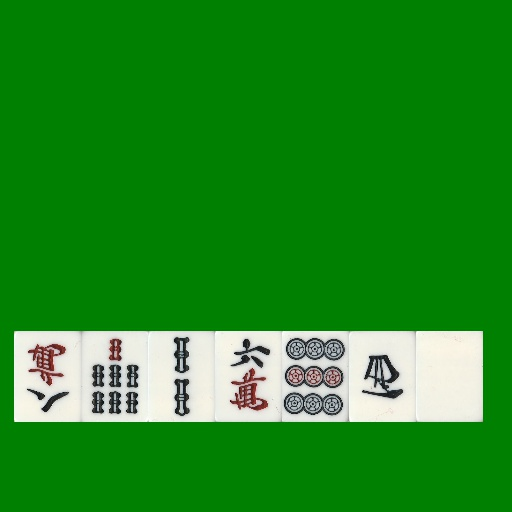2s: (148, 331, 215, 422)
6m: (215, 331, 282, 422)
7s: (81, 331, 148, 422)
8m: (14, 331, 81, 422)
9p: (282, 331, 349, 422)
west: (349, 331, 416, 422)
white: (416, 331, 483, 422)
